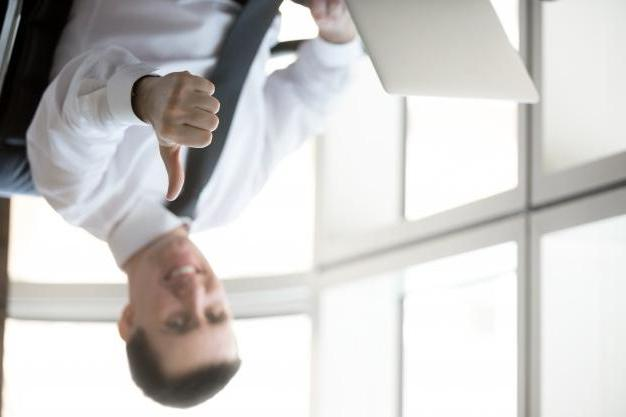thumbsdown: (161, 71, 221, 202)
